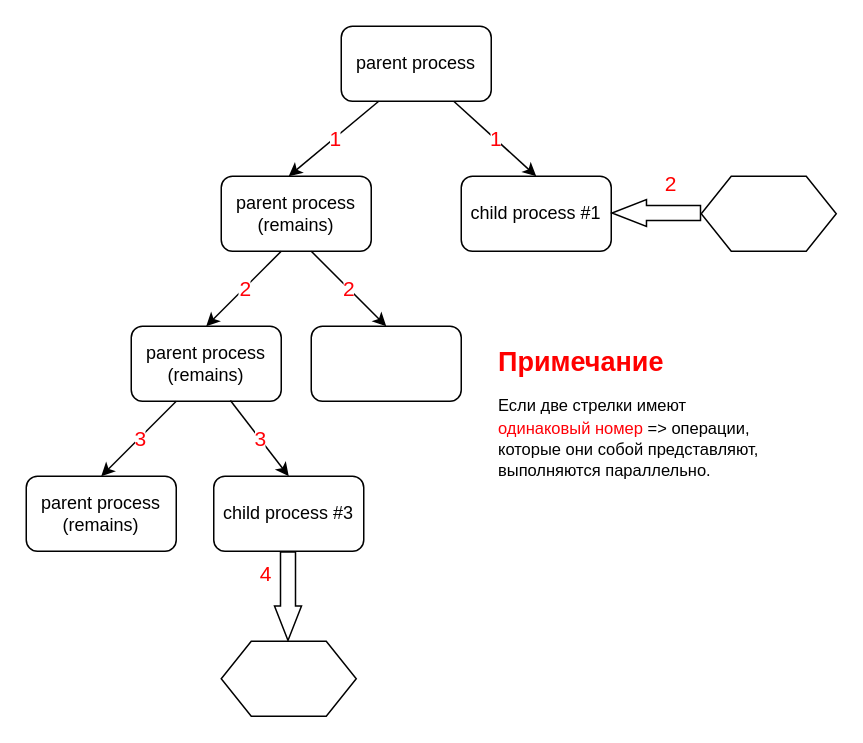
The diagram is 863 pixels wide and 743 high, and some of its shapes have lost their labels. The centre of each missing label's shape, as x and y in pixels:
"child process #2" goes at point 385,363.
"Input file" goes at point 768,213.
"Output file" goes at point 288,678.
